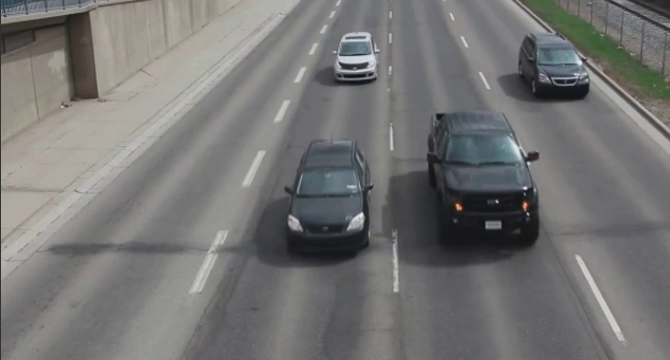car: (422, 107, 546, 254), (286, 131, 378, 261), (515, 30, 594, 103), (332, 24, 381, 88)
